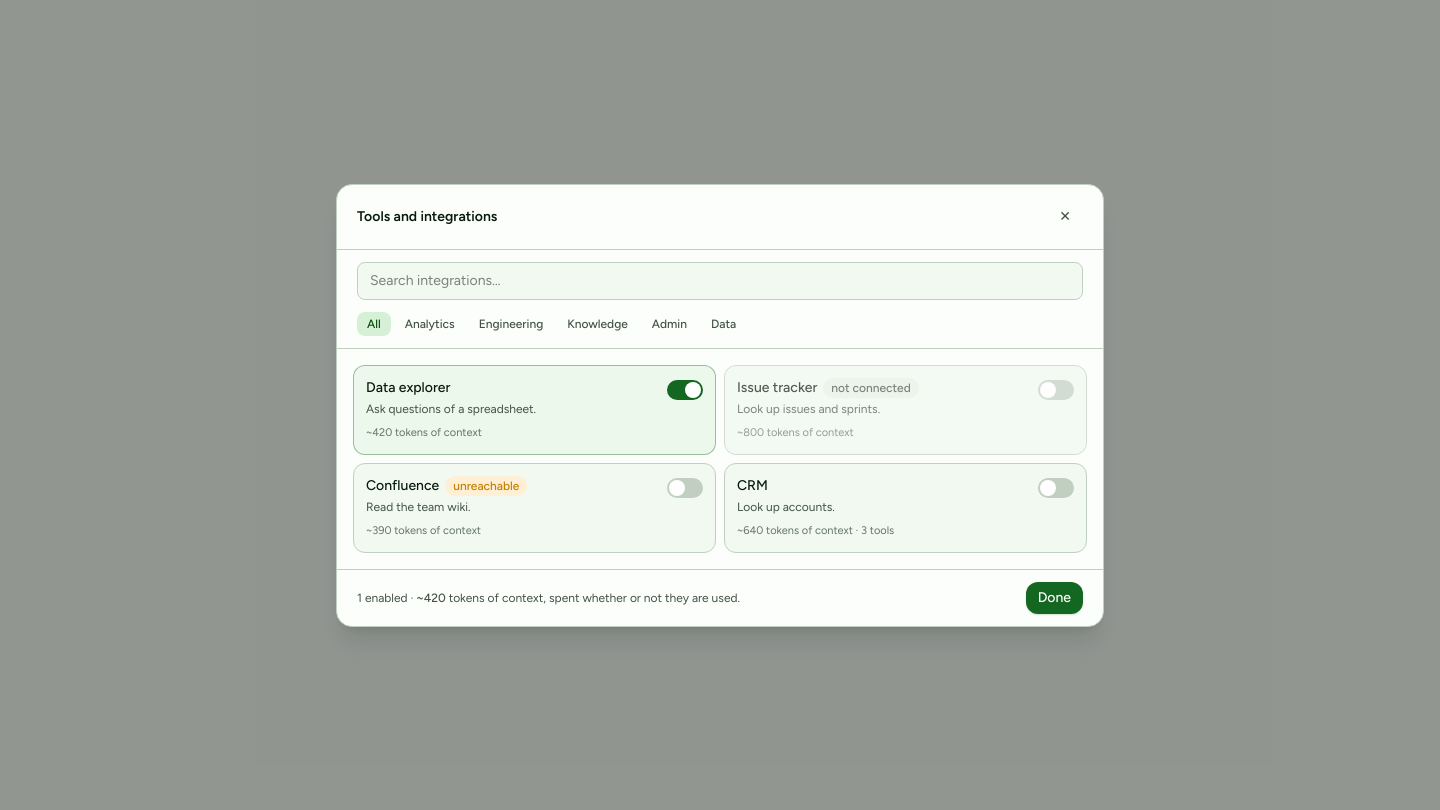
Scenario: ToolsModal › filters by search
Check: the text "Data explorer" is shown, box x1=366 y1=378 x2=450 y2=398
Type "issue" into the field with placeholder "Search integrations…" at (720, 280), box x1=357 y1=262 x2=1083 y2=300
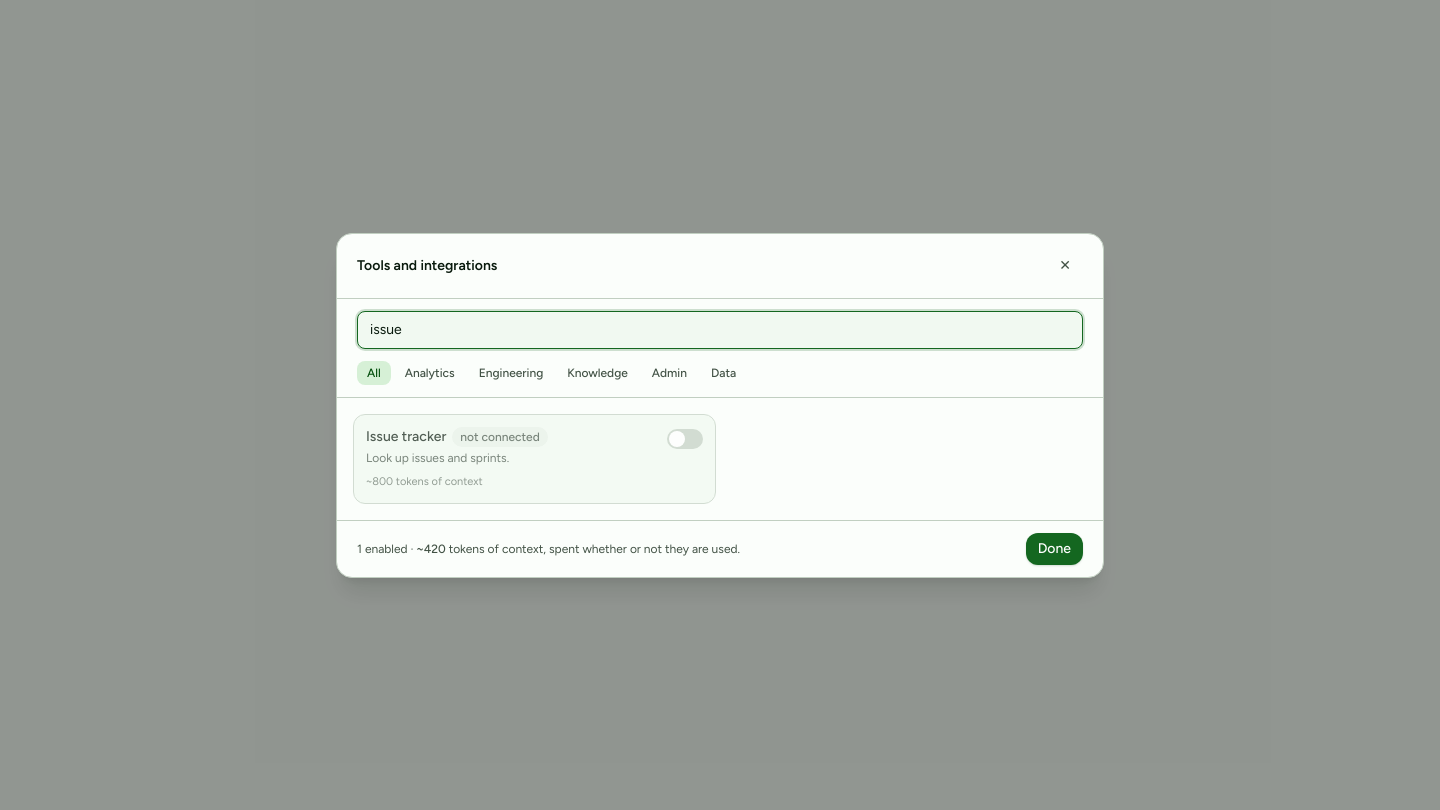
Check: the text "Issue tracker" is shown, box x1=366 y1=426 x2=446 y2=446
Check: the text "Data explorer" is gone
